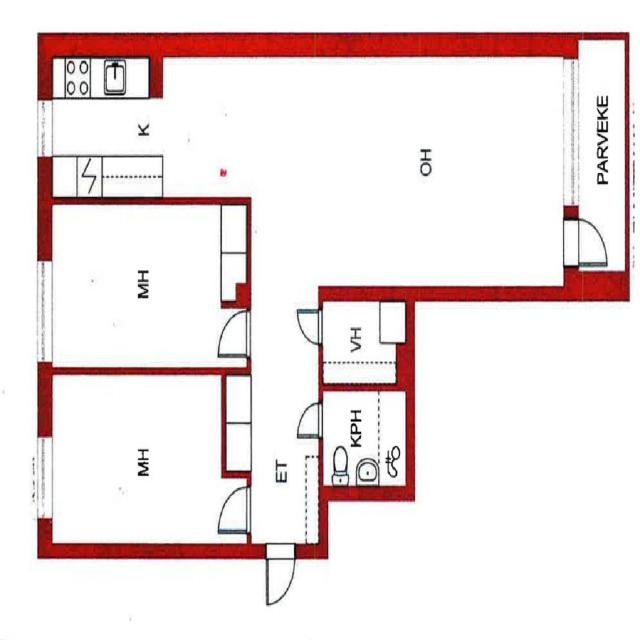door: (564, 218, 606, 265), (266, 543, 295, 604), (218, 310, 251, 356), (218, 486, 250, 532), (298, 309, 322, 344), (298, 403, 323, 436)
